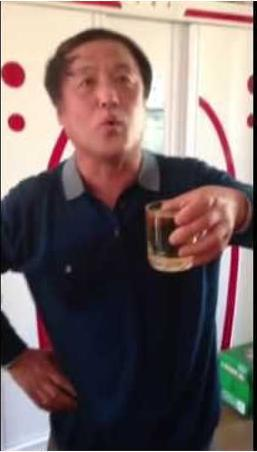Drunk: (66, 43, 141, 153)
